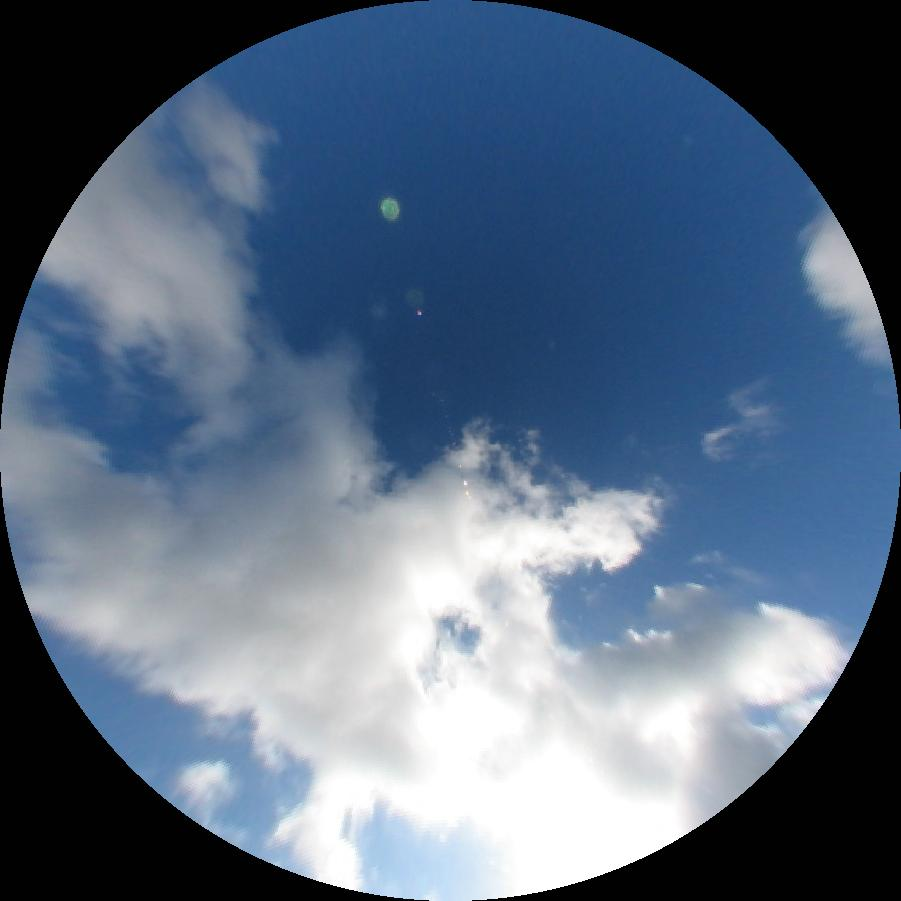sun: (516, 759, 624, 868)
